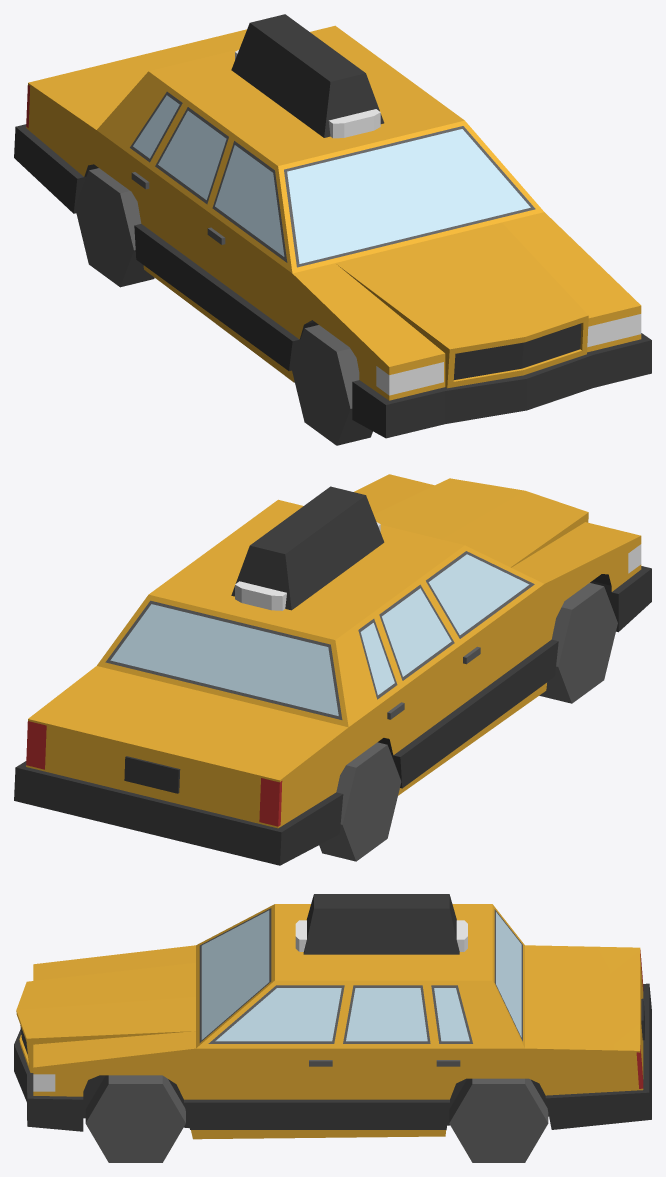
File: taxi.glb
3 views of the same model, one above another, from view 1: azimuth 30°, elevation 25°; view 2: azimuth 150°, elevation 25°; view 3: azimuth 270°, elevation 25° (orthographic). The views are drawn at different scales.
Visible parts, largest first — view 1: Taxi_Mat_0; view 2: Taxi_Mat_0; view 3: Taxi_Mat_0.
Part boxes in pixels (left/top/right/bottom): Taxi_Mat_0: left=14, top=14, right=651, bottom=445; Taxi_Mat_0: left=14, top=474, right=651, bottom=865; Taxi_Mat_0: left=14, top=894, right=651, bottom=1162.
Bounding box in the file's own units: 3 × 2.63 × 7.37.
1 material, 1 textured.
